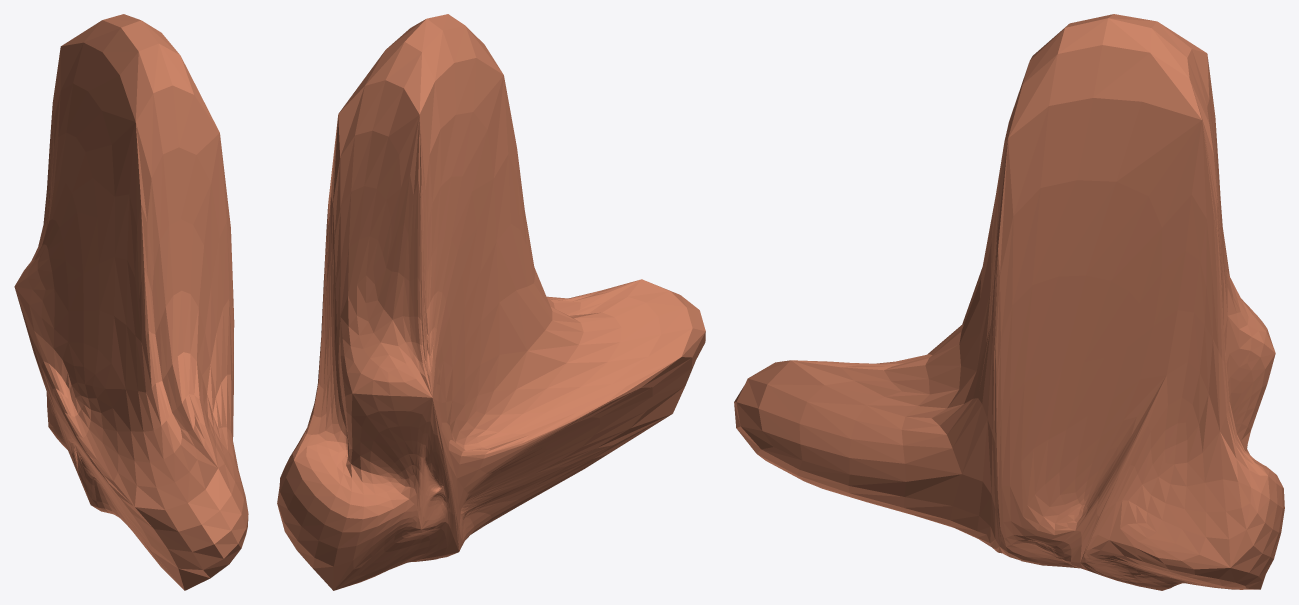
The picture shows the model from 3 angles, left to right: view 1: azimuth 30°, elevation 25°; view 2: azimuth 150°, elevation 25°; view 3: azimuth 270°, elevation 25°; orthographic projection. The views are drawn at different scales.
Visible parts, largest first — view 1: 949_Cube.3840; view 2: 949_Cube.3840; view 3: 949_Cube.3840.
Part boxes in pixels (x1,y1,x2,y2): 949_Cube.3840: [14, 14, 248, 590]; 949_Cube.3840: [277, 14, 705, 590]; 949_Cube.3840: [734, 14, 1284, 590].
Size of the model in its own units: 5.51 by 12.54 by 11.12.
